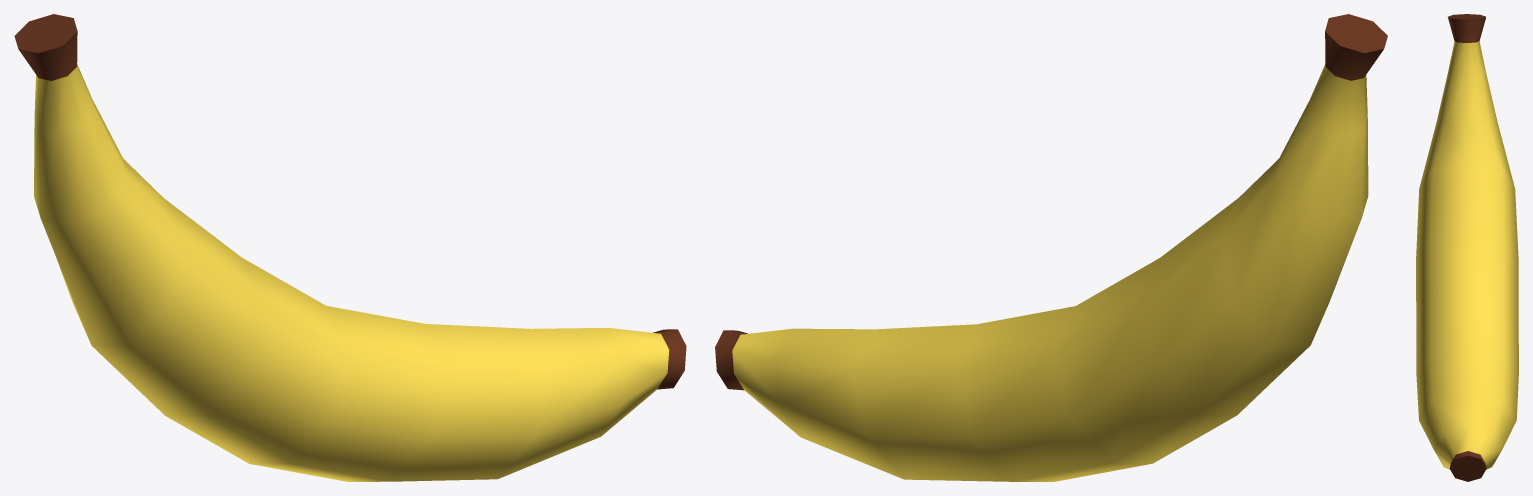
The model's file is Banana.fbx.
The picture shows the model from 3 angles, left to right: view 1: azimuth 30°, elevation 25°; view 2: azimuth 150°, elevation 25°; view 3: azimuth 270°, elevation 25°; orthographic projection. The views are drawn at different scales.
Visible parts, largest first — view 1: Banana; view 2: Banana; view 3: Banana.
Boxes of the visible parts, <box> form: Banana: <box>14,14,686,481</box>; Banana: <box>715,14,1387,481</box>; Banana: <box>1416,14,1518,481</box>.
Bounding box in the file's own units: 83.37 × 67 × 19.47.
